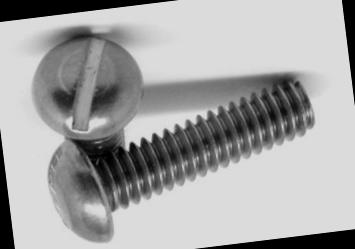slotted: (25, 26, 150, 145)
